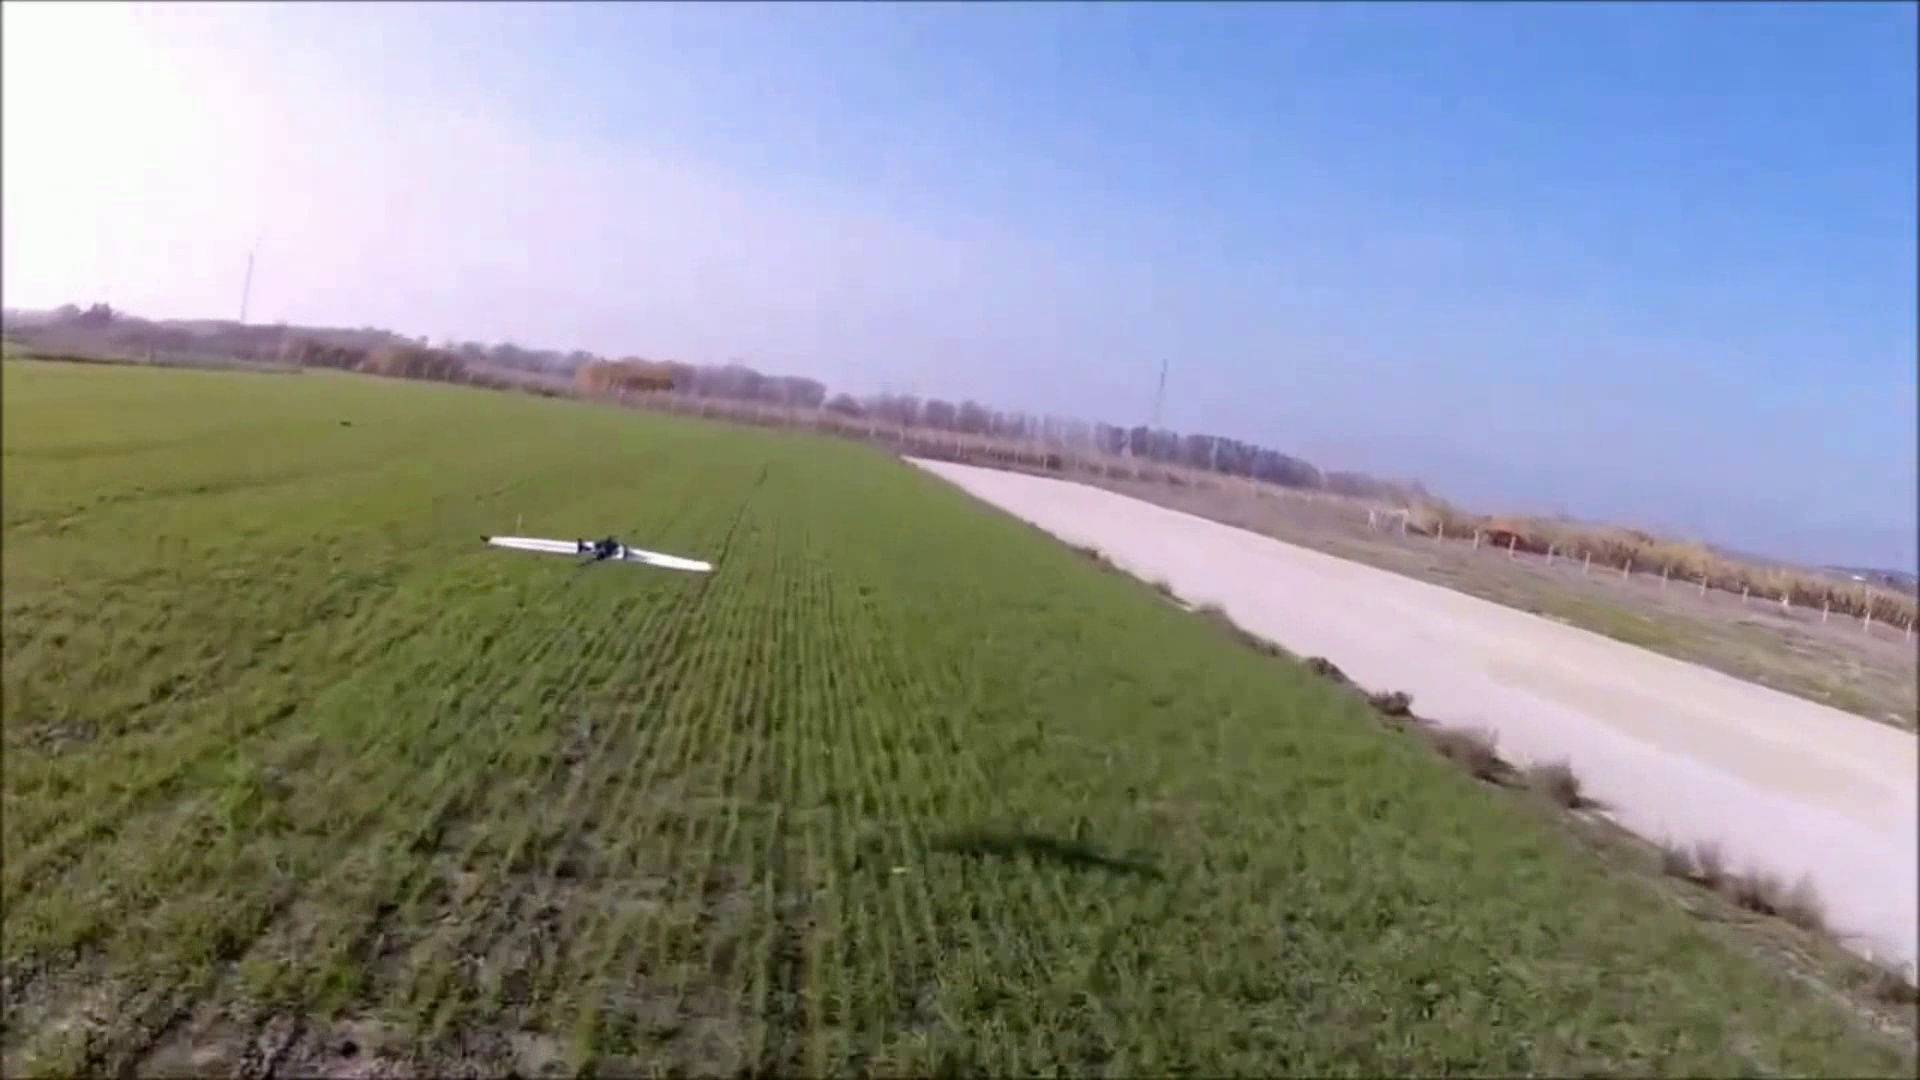airplane: (483, 527, 715, 577)
